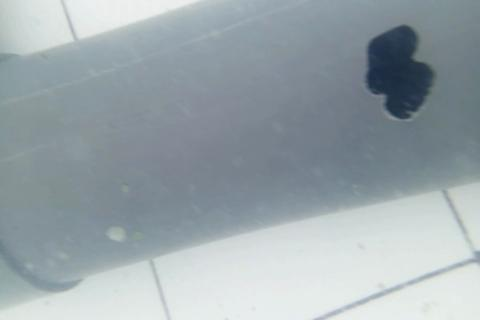kebocoran: (364, 23, 436, 122)
